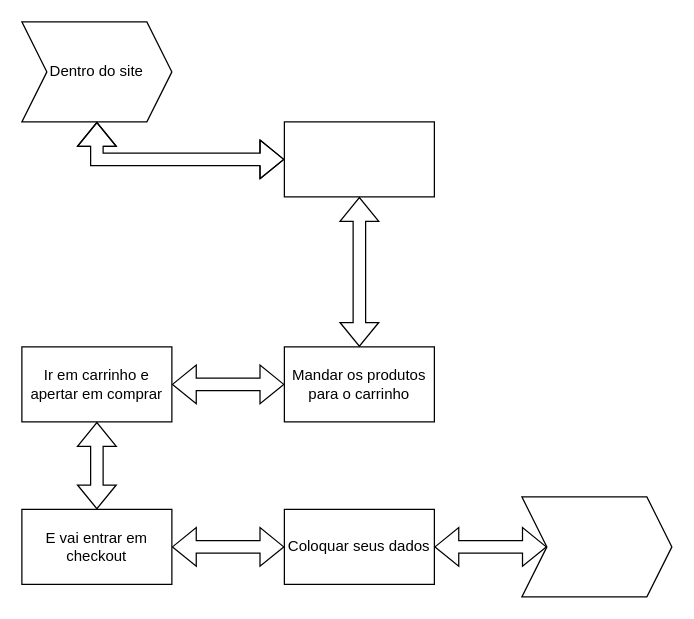
The diagram is 694 pixels wide and 619 high, and some of its shapes have lost their labels. The box of each missing label's shape, as (x1, y1, x2, y2) in pixels:
Escolher seus produtos: (283, 121, 434, 197)
Finalizar compra: (521, 496, 672, 597)
